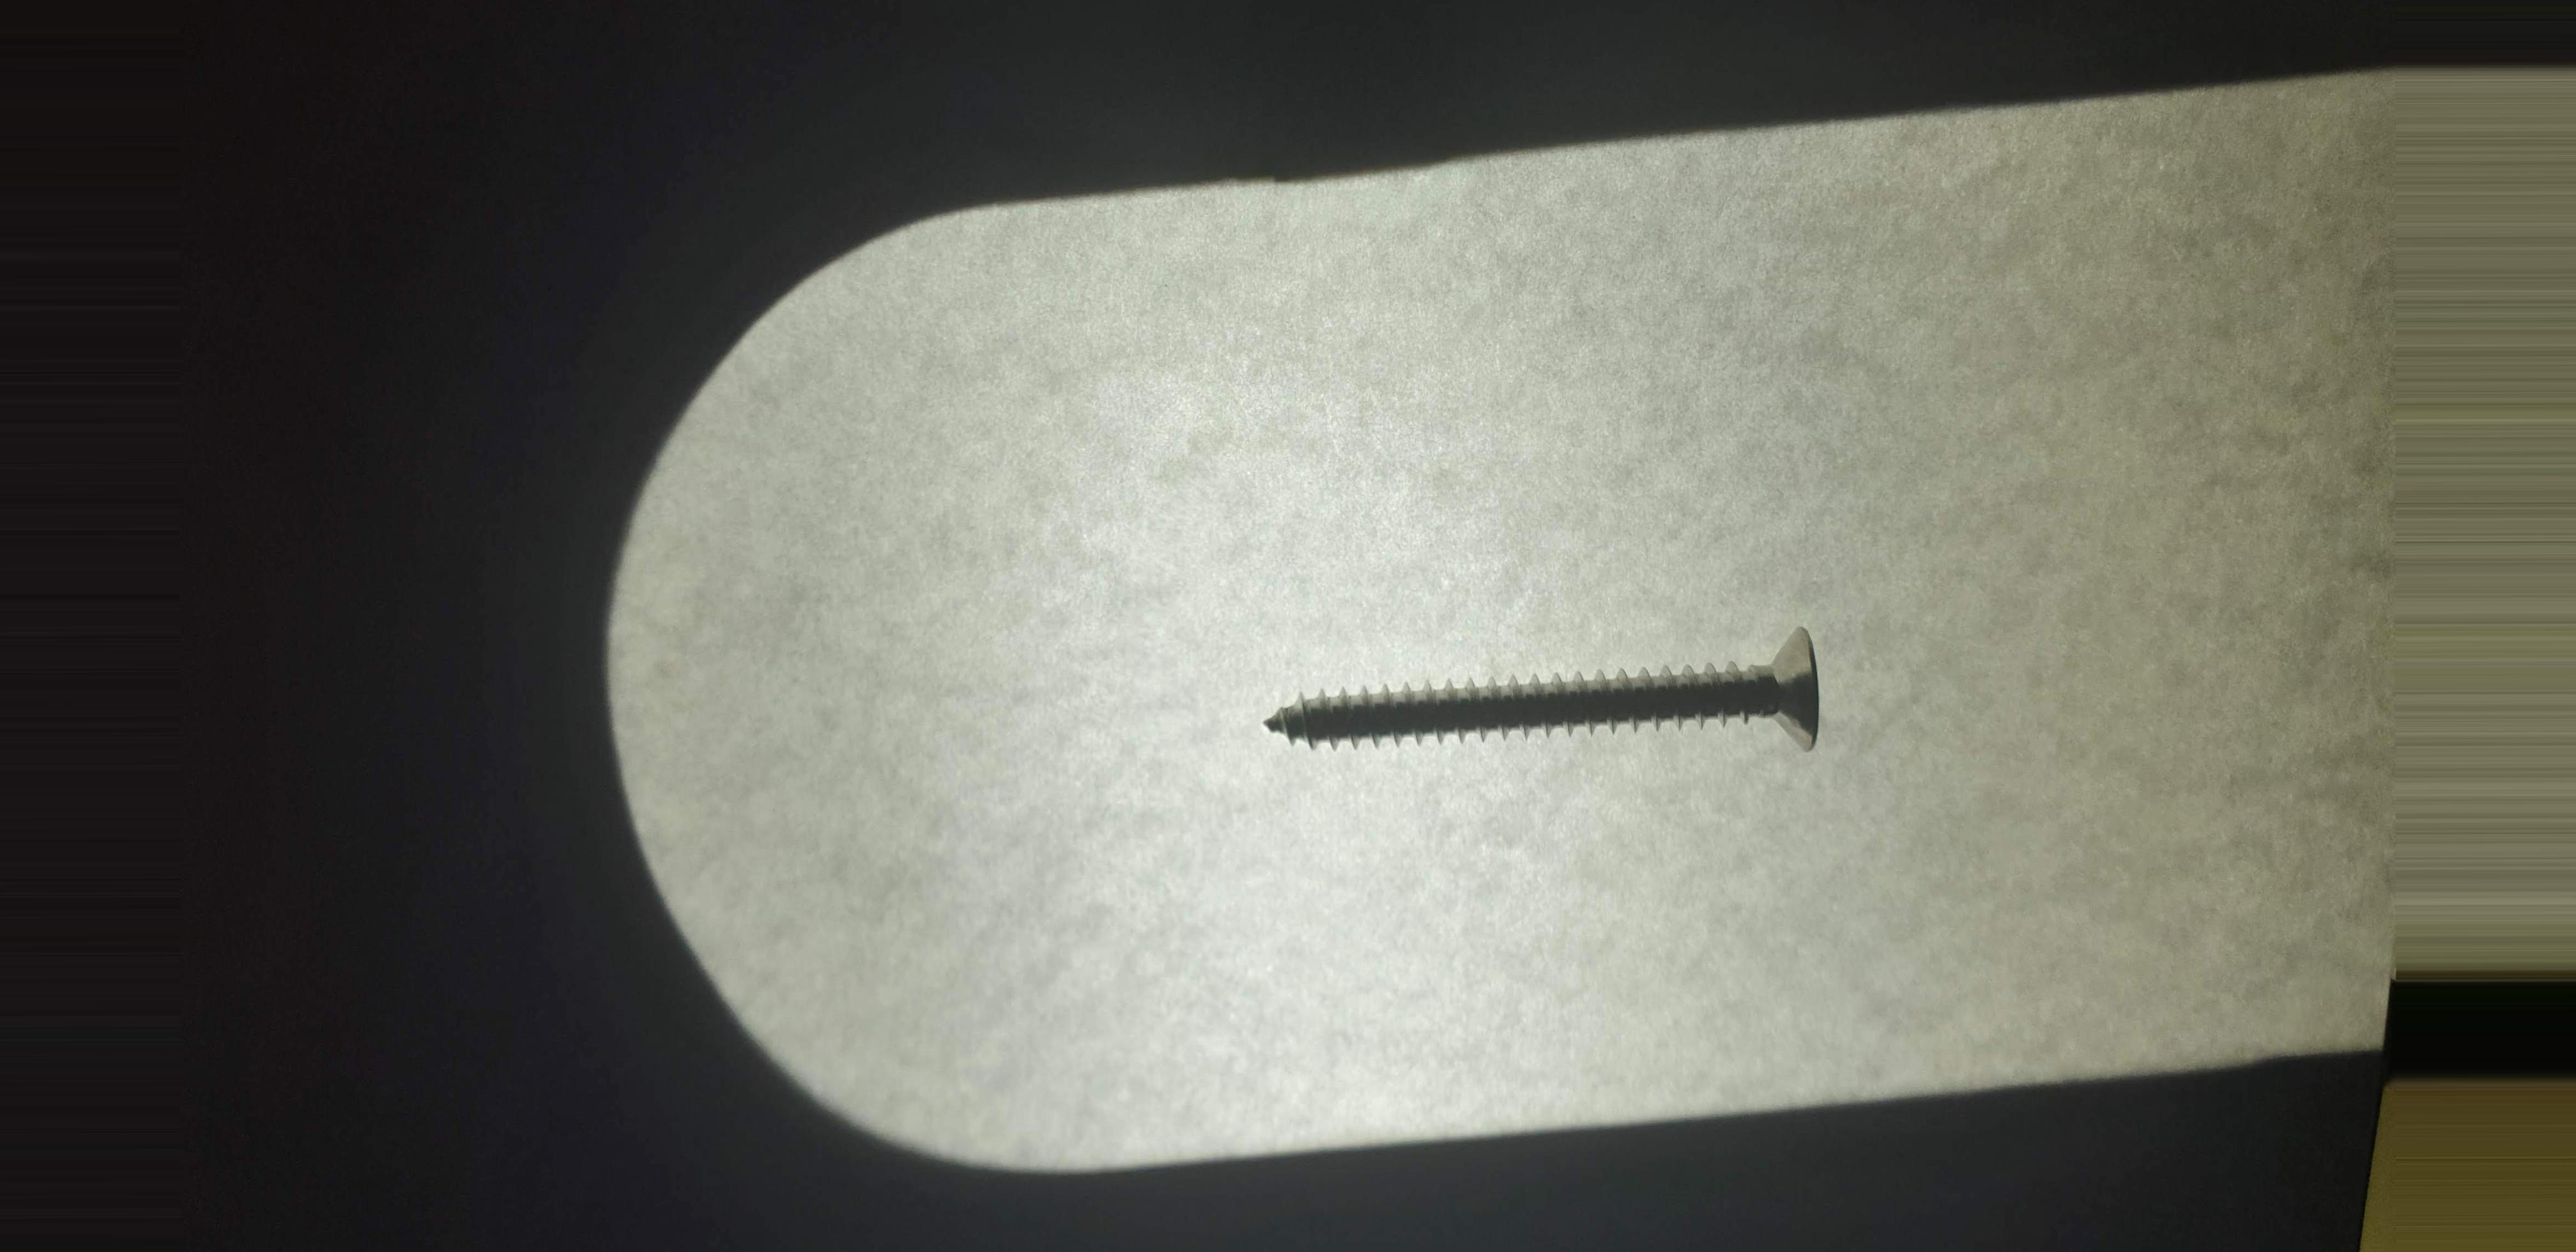S001: (1209, 614, 1845, 777)
